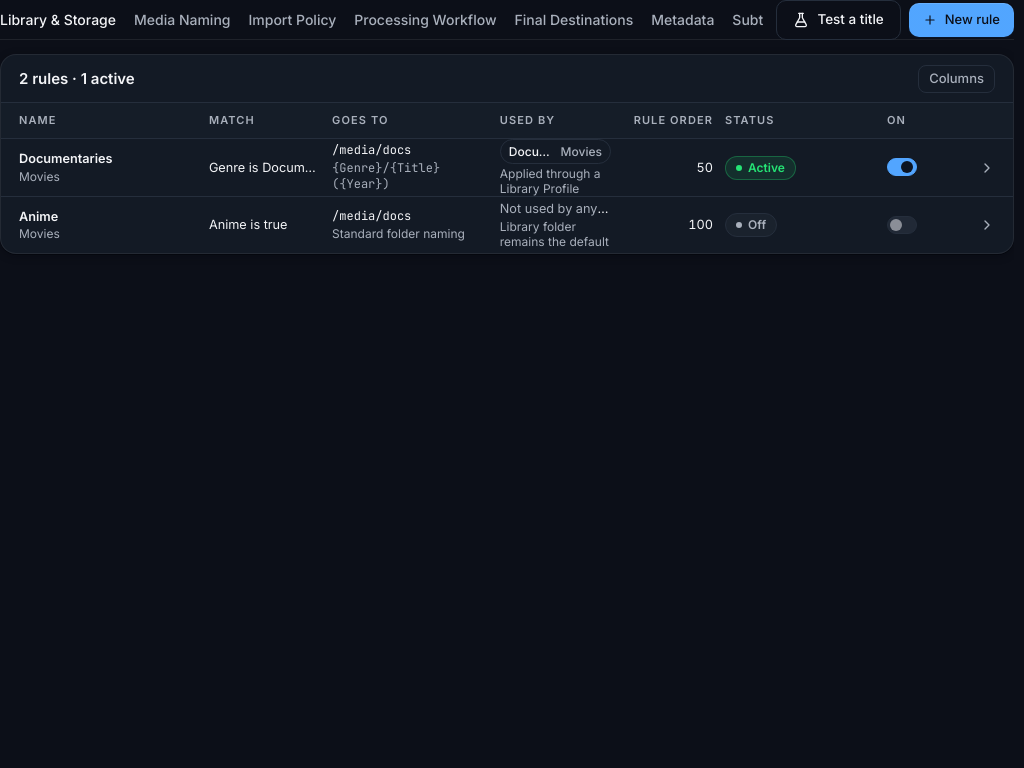
Scenario: destination rule drawer › asks for a name, what the rule matches and the destination folder, and sends nothing until they are given
The image size is (1024, 768).
Click the button "New rule" at {"x": 961, "y": 20}, box [909, 2, 1014, 36]
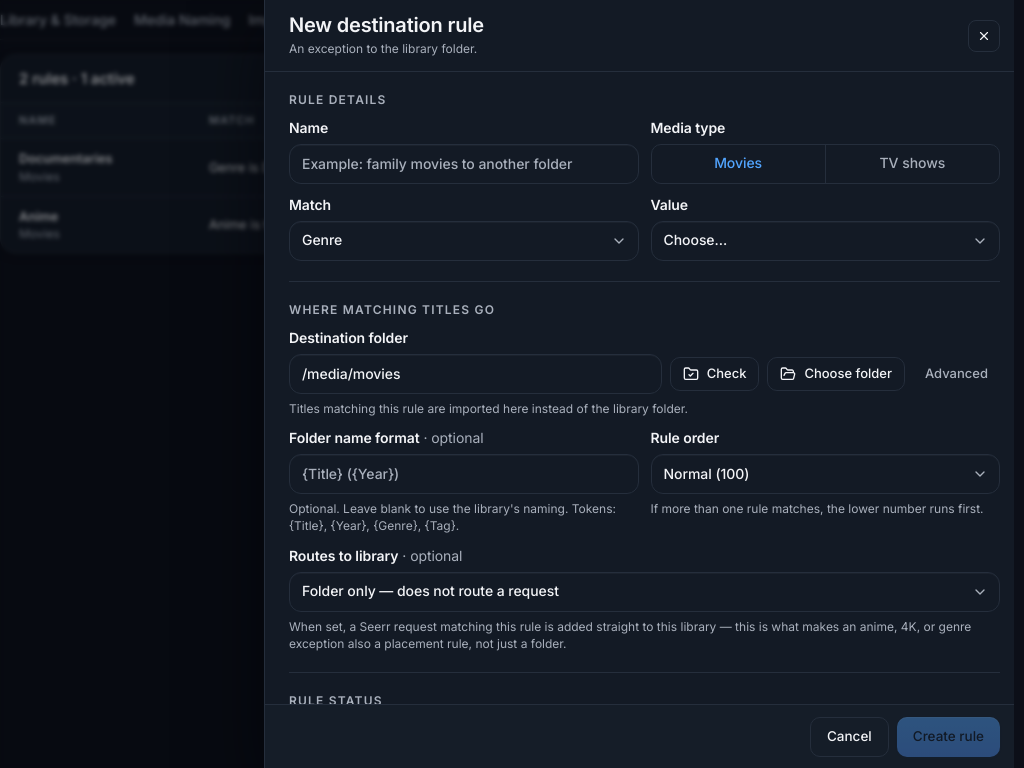
Clear the field labelled "Destination folder" at {"x": 475, "y": 374}, box [289, 354, 662, 394]
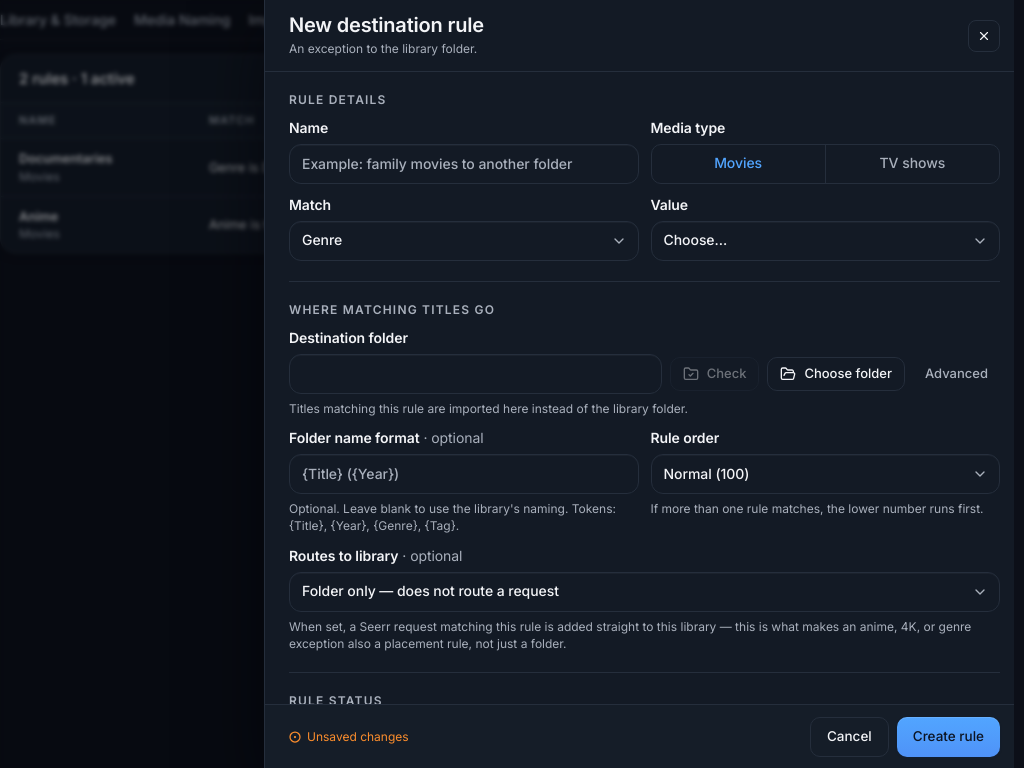
Click the button "Create rule" at {"x": 948, "y": 736}, box [897, 716, 1000, 756]
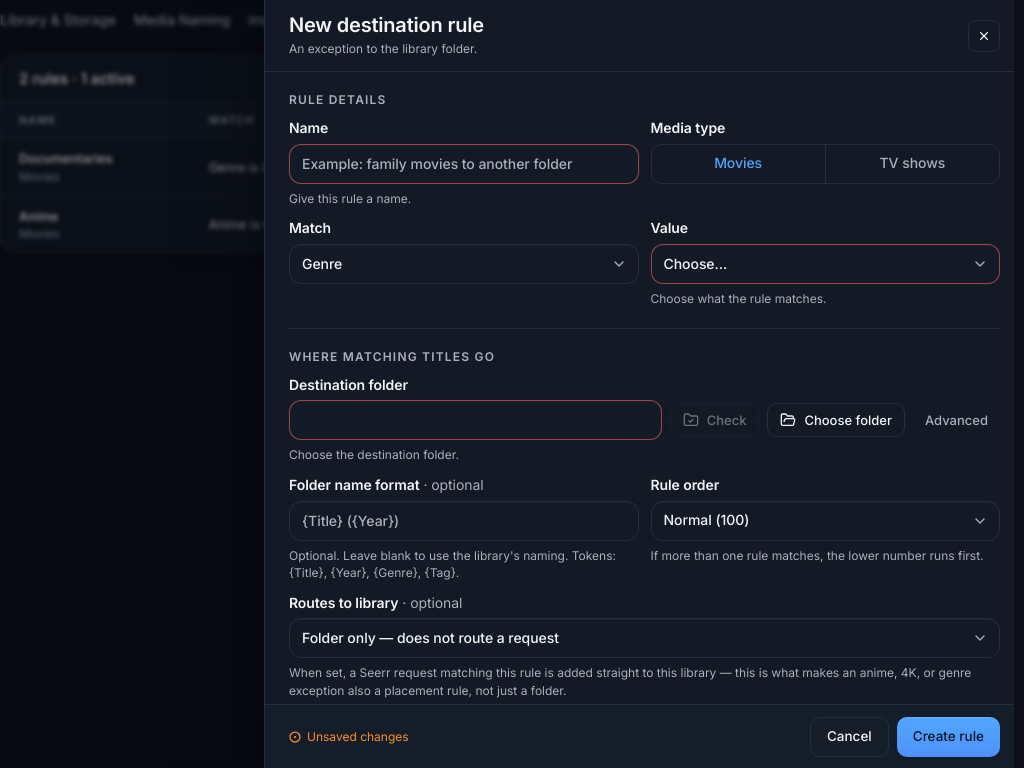
Now the text "Give this rule a name." is shown, box [289, 191, 411, 206]
Now the text "Choose what the rule matches." is shown, box [650, 291, 826, 306]
Now the text "Choose the destination folder." is shown, box [289, 448, 459, 462]
